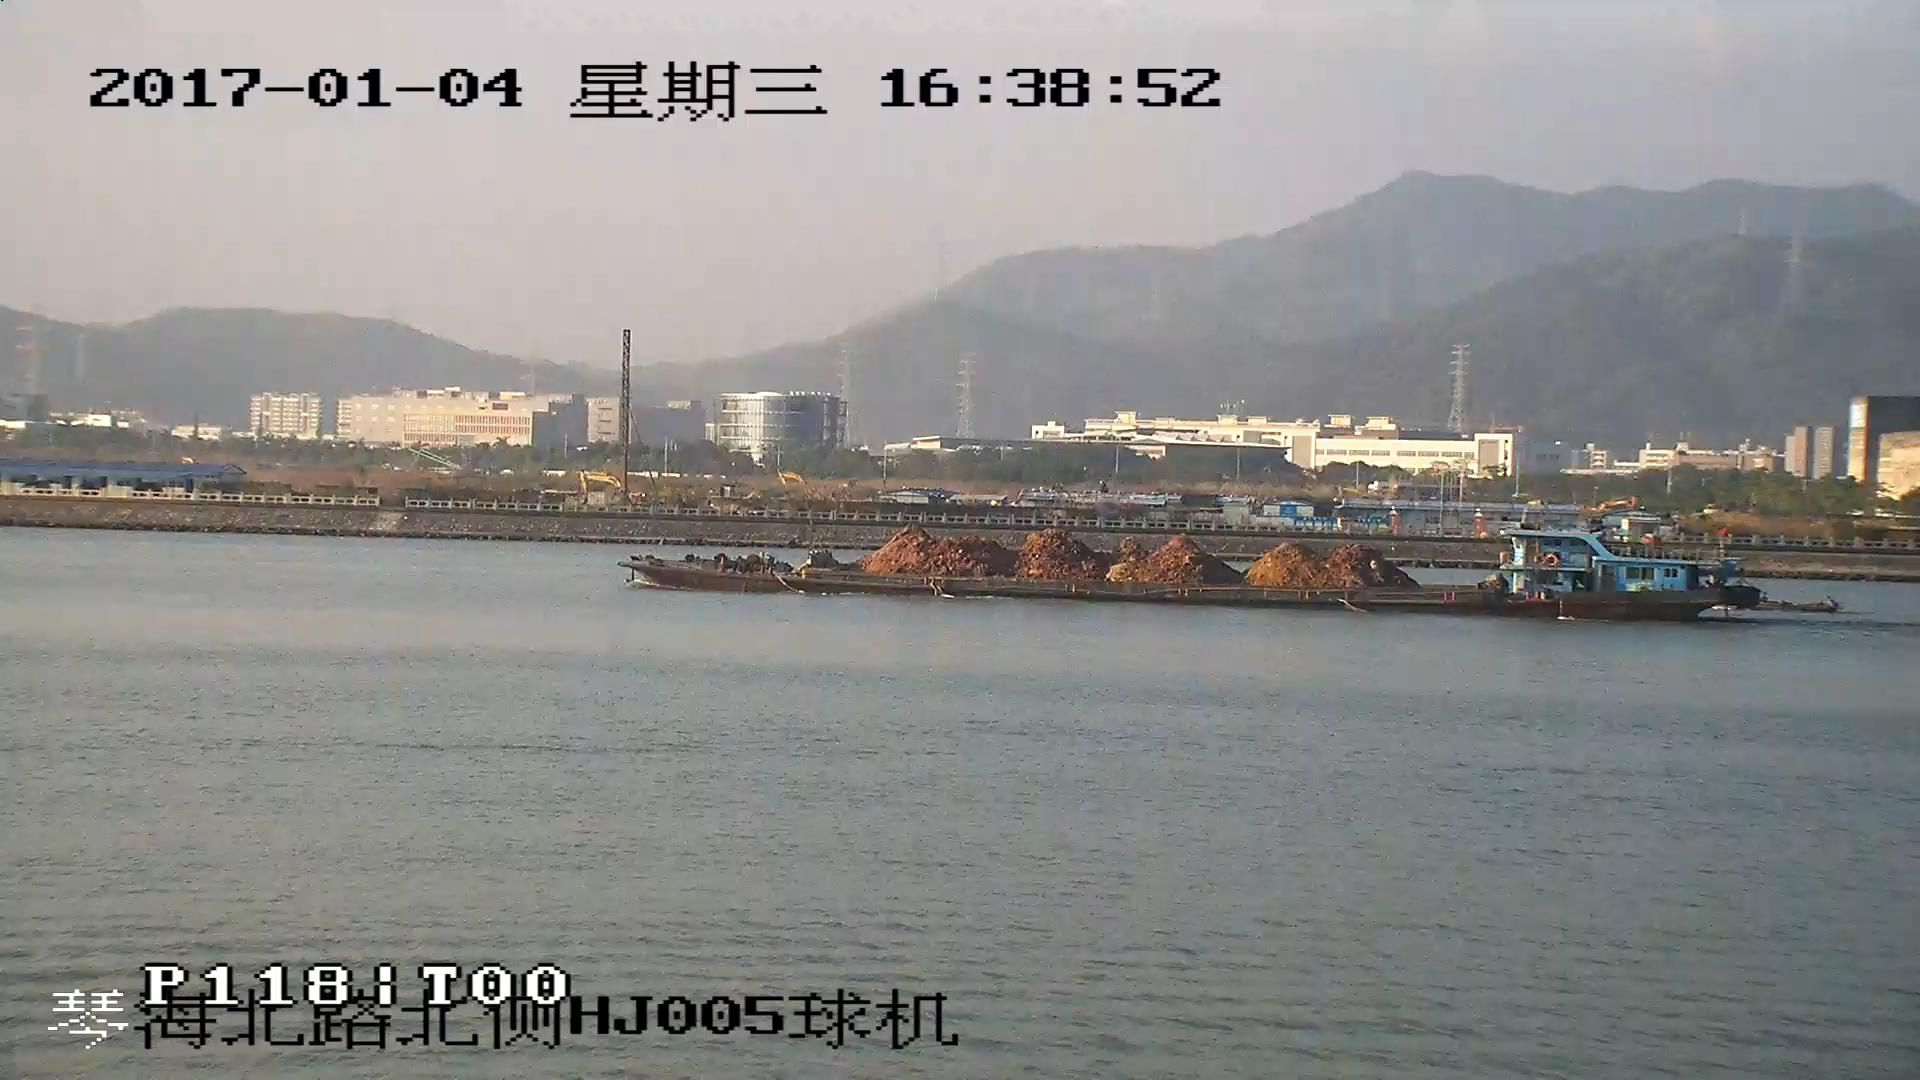ore carrier: (622, 523, 1760, 625)
